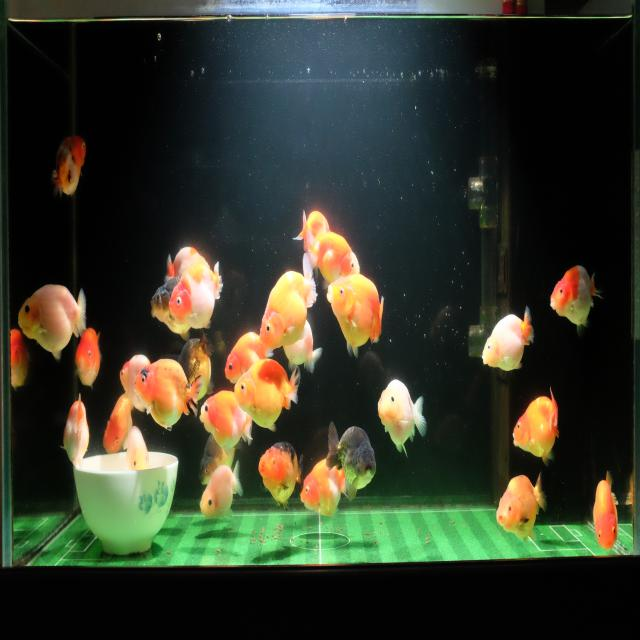Tilapia: (258, 252, 318, 354), (17, 281, 89, 360), (232, 358, 302, 435), (326, 271, 385, 362), (134, 354, 202, 432), (324, 416, 377, 504), (511, 383, 562, 468), (549, 262, 605, 338), (377, 376, 428, 459), (168, 257, 224, 331), (494, 470, 548, 546), (199, 386, 253, 459), (481, 304, 535, 374), (257, 439, 306, 515), (304, 228, 361, 285), (298, 455, 348, 519), (223, 328, 276, 387), (173, 330, 216, 402), (199, 458, 245, 524), (58, 392, 93, 468), (49, 130, 87, 199), (592, 469, 622, 552), (117, 353, 155, 413), (283, 317, 323, 373), (101, 391, 136, 455), (292, 202, 330, 252), (72, 325, 100, 390), (122, 412, 150, 470), (10, 315, 30, 393)
